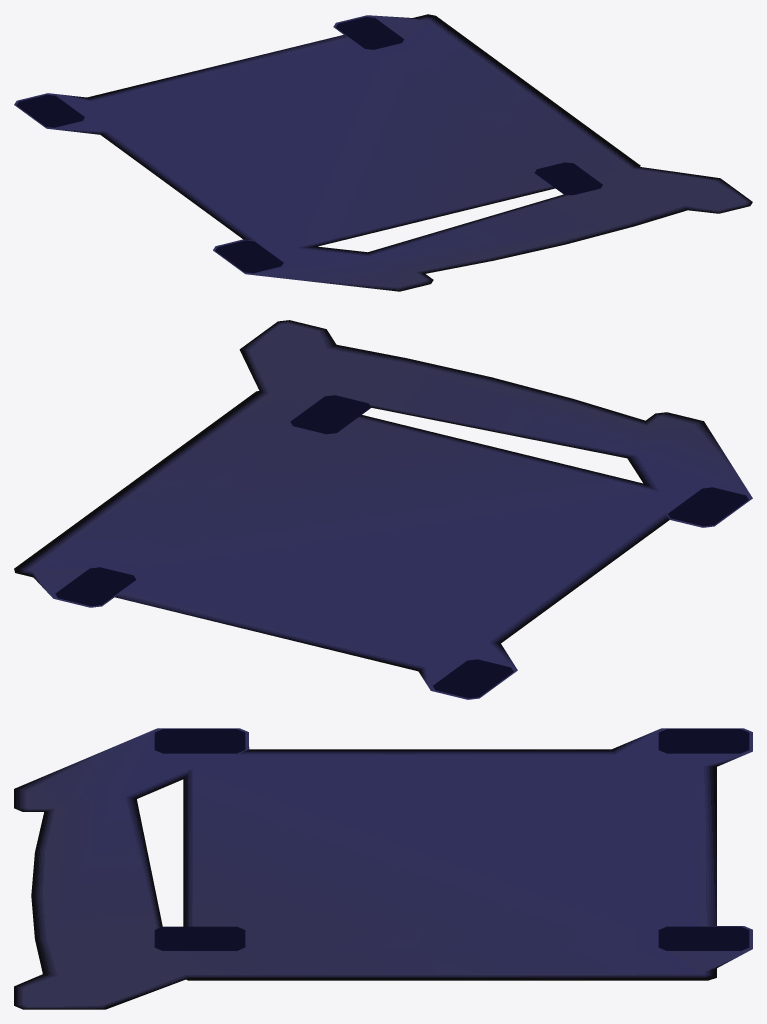
3 views of the same model, one above another, from view 1: azimuth 30°, elevation 25°; view 2: azimuth 150°, elevation 25°; view 3: azimuth 270°, elevation 25° (orthographic). The views are drawn at different scales.
Parts seen in each view (by area): view 1: Joint_0_Object_0; view 2: Joint_0_Object_0; view 3: Joint_0_Object_0.
Boxes of the visible parts, x1=… form: Joint_0_Object_0: x1=14, y1=14, x2=752, y2=291; Joint_0_Object_0: x1=14, y1=320, x2=752, y2=699; Joint_0_Object_0: x1=14, y1=728, x2=752, y2=1009.
Bounding box in the file's own units: 726 × 0 × 806.
1 material, 1 textured.
